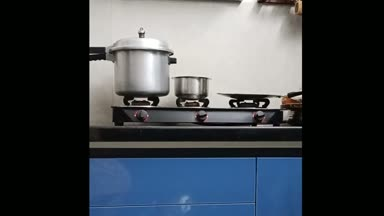flame_gas_off: (177, 99, 210, 122), (234, 100, 267, 123)
noflame_gason: (122, 95, 160, 123)
